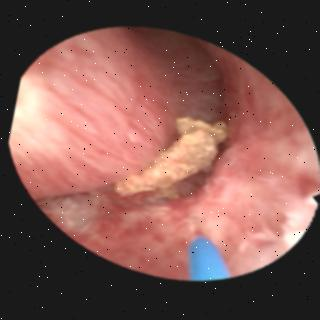fiber: (185, 235, 225, 275)
stone: (113, 115, 225, 197)
tissue: (13, 30, 312, 274)
